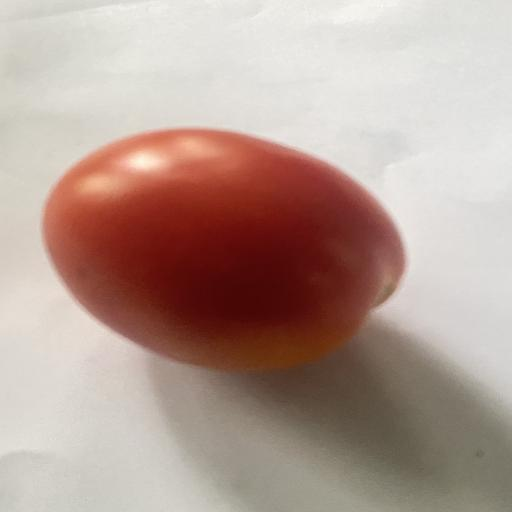ripe: (43, 128, 405, 370)
